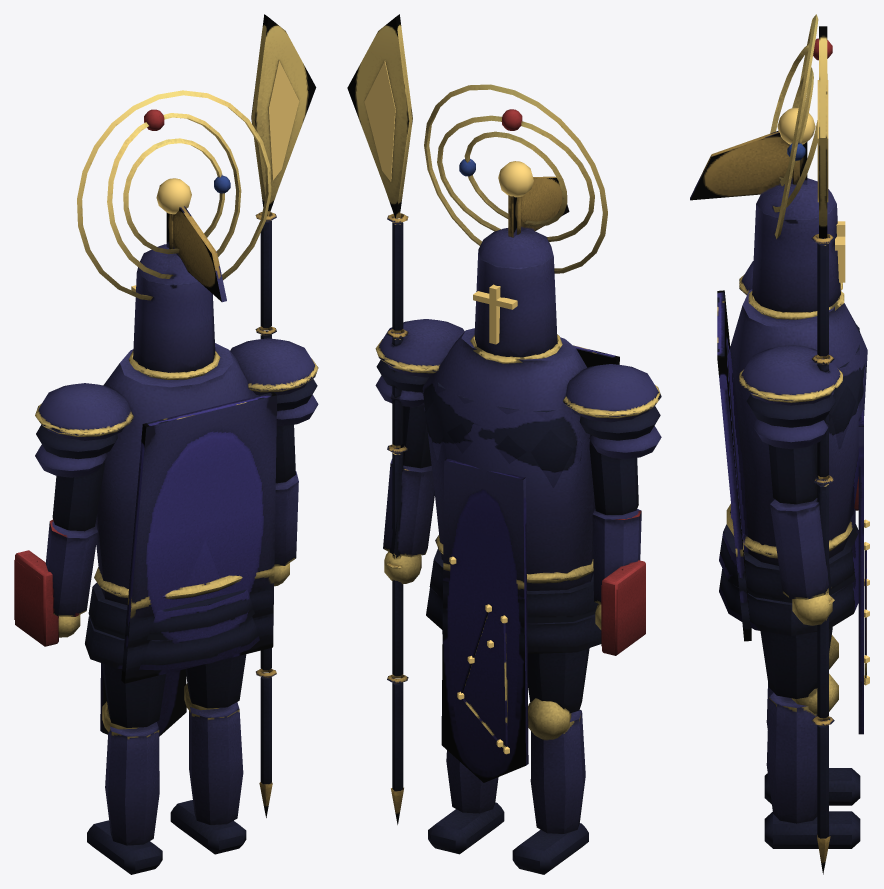
File: alpha_archive_executor.fbx
The picture shows the model from 3 angles, left to right: view 1: azimuth 30°, elevation 25°; view 2: azimuth 150°, elevation 25°; view 3: azimuth 270°, elevation 25°; orthographic projection. The views are drawn at different scales.
Parts seen in each view (by area): view 1: Body, Head, ForearmR, ArmL, KneeL, KneeR, Trophy_OrreryCrown, ForearmL, ArmR, LegL, LegR, ForearmR_Glow_Star (+1 smaller); view 2: Body, ForearmR, Head, ArmL, KneeL, Trophy_OrreryCrown, ForearmL, ArmR, KneeR, LegL, ForearmR_Glow_Star, Trophy_OrreryCrown_Glow_Star (+1 smaller); view 3: Body, Head, ForearmR, ArmR, KneeR, Trophy_OrreryCrown, LegR, KneeL, Trophy_OrreryCrown_Glow_Star, Head_Glow_Star, ForearmR_Glow_Star.
Boxes of the visible parts, x1,y1,x2,y2 form: Body: (85, 343, 276, 736); Head: (128, 206, 226, 379); ForearmR: (251, 14, 316, 817); ArmL: (35, 383, 133, 531); KneeL: (87, 701, 162, 874); KneeR: (170, 683, 246, 854); Trophy_OrreryCrown: (77, 90, 271, 300); ForearmL: (14, 519, 97, 646); ArmR: (230, 338, 318, 483); LegL: (102, 663, 165, 727); LegR: (185, 654, 246, 708); ForearmR_Glow_Star: (268, 60, 299, 180); Body: (422, 328, 619, 782); ForearmR: (347, 14, 434, 824); Head: (470, 176, 569, 363); ArmL: (563, 364, 661, 514); KneeL: (512, 698, 588, 874); Trophy_OrreryCrown: (424, 84, 607, 273); ForearmL: (592, 509, 645, 655); ArmR: (375, 319, 464, 468); KneeR: (428, 750, 504, 854); LegL: (527, 648, 589, 713); ForearmR_Glow_Star: (364, 60, 395, 181); Trophy_OrreryCrown_Glow_Star: (498, 161, 533, 197); Body: (717, 289, 867, 734); Head: (690, 130, 844, 319); ForearmR: (770, 26, 834, 874); ArmR: (739, 345, 842, 504); KneeR: (764, 673, 860, 848); Trophy_OrreryCrown: (770, 14, 832, 239); LegR: (760, 627, 832, 698); KneeL: (764, 635, 860, 805); Trophy_OrreryCrown_Glow_Star: (777, 108, 815, 144); Head_Glow_Star: (835, 221, 845, 282); ForearmR_Glow_Star: (817, 80, 828, 202).
Size of the model in its own units: 448 by 1188 by 228.
2 materials, 1 textured.
